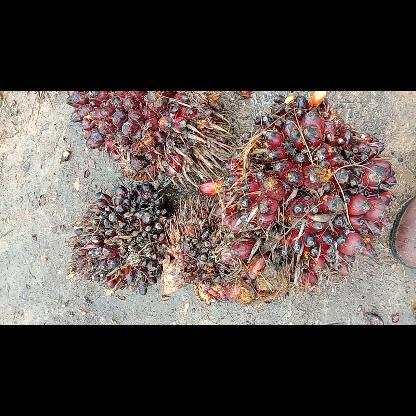Kurang masak: (200, 90, 396, 290)
TBS abnormal: (67, 180, 173, 292), (160, 196, 258, 304)
TBS masak: (66, 90, 232, 186)
